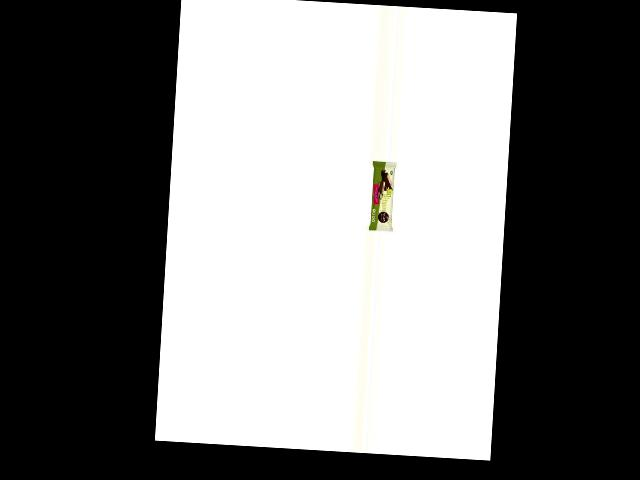chocolate: (365, 159, 398, 231)
